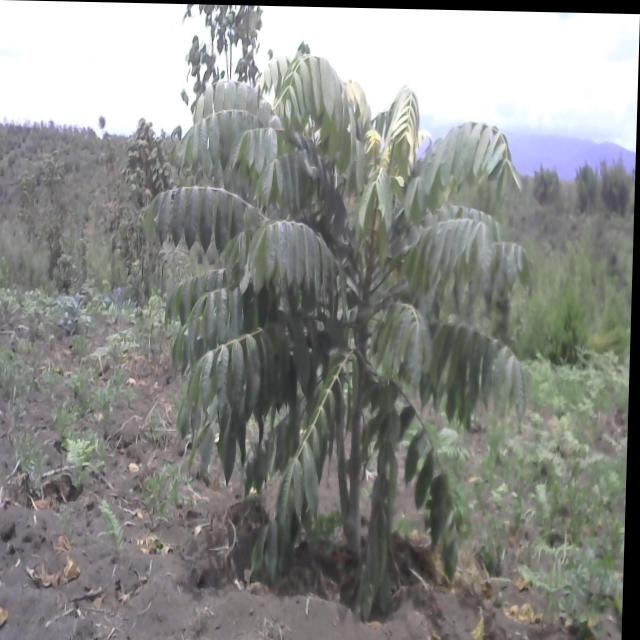Polyscias fulva: (122, 27, 539, 637)
